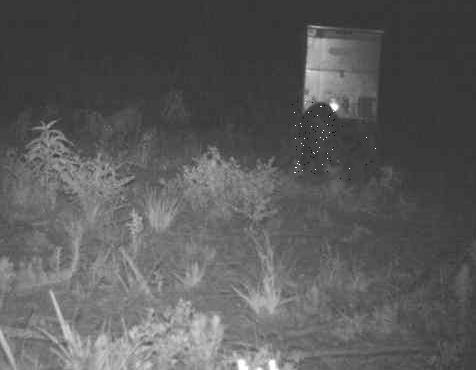Hog: (292, 100, 336, 174), (334, 114, 375, 191)
